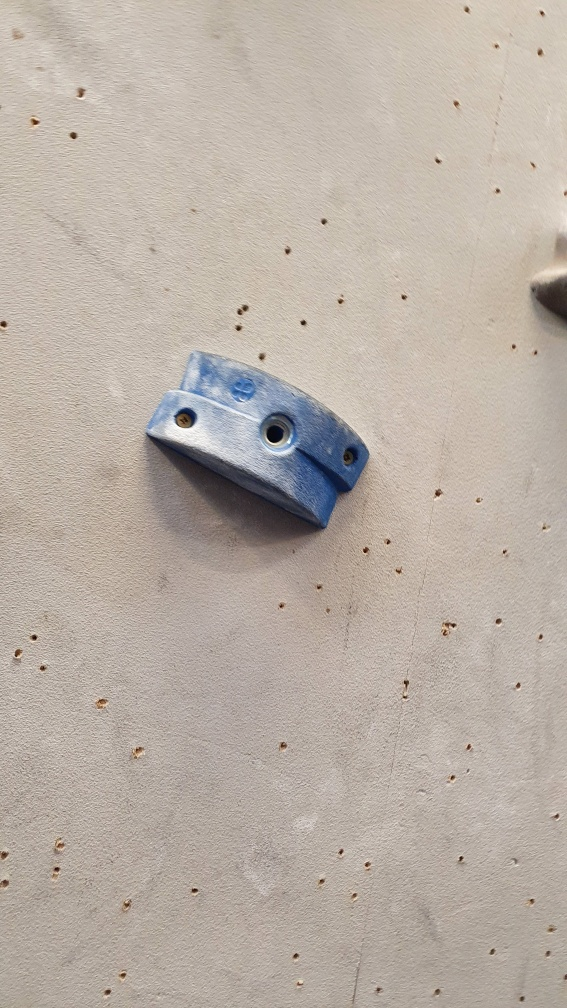Pinch: (147, 347, 372, 536)
